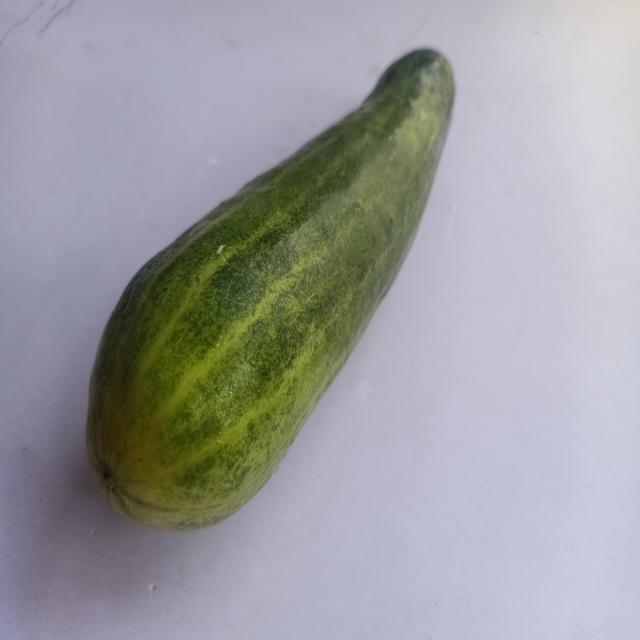Cucumber: (46, 22, 536, 562)
